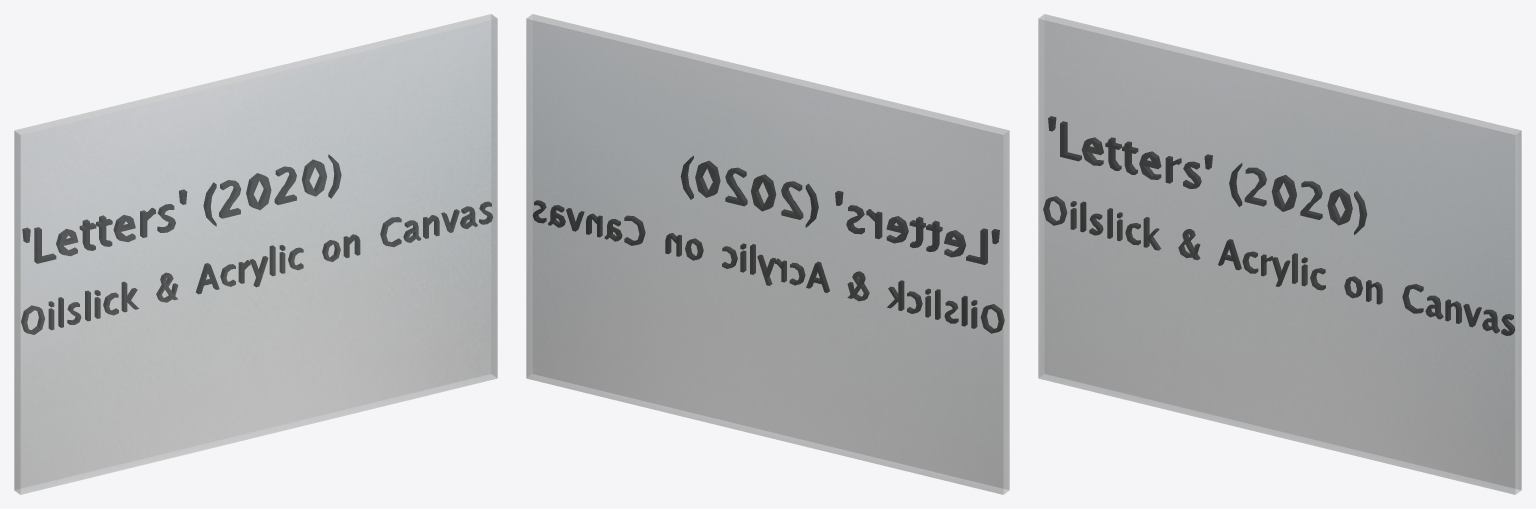
The model's file is Lettersglassdisplayed.fbx.
The picture shows the model from 3 angles, left to right: view 1: azimuth 30°, elevation 25°; view 2: azimuth 150°, elevation 25°; view 3: azimuth 330°, elevation 25°; orthographic projection.
Parts seen in each view (by area): view 1: pCube2, typeMesh1, typeMesh; view 2: pCube2, typeMesh1, typeMesh; view 3: pCube2, typeMesh1, typeMesh.
Part boxes in pixels (left/top/right/bottom): pCube2: left=14, top=14, right=497, bottom=494; typeMesh1: left=21, top=201, right=492, bottom=334; typeMesh: left=22, top=154, right=341, bottom=263; pCube2: left=526, top=14, right=1009, bottom=494; typeMesh1: left=532, top=200, right=1004, bottom=333; typeMesh: left=680, top=156, right=999, bottom=264; pCube2: left=1038, top=14, right=1521, bottom=494; typeMesh1: left=1043, top=196, right=1515, bottom=335; typeMesh: left=1048, top=116, right=1366, bottom=234.
Bounding box in the file's own units: 8.22 × 5.93 × 0.1877.
